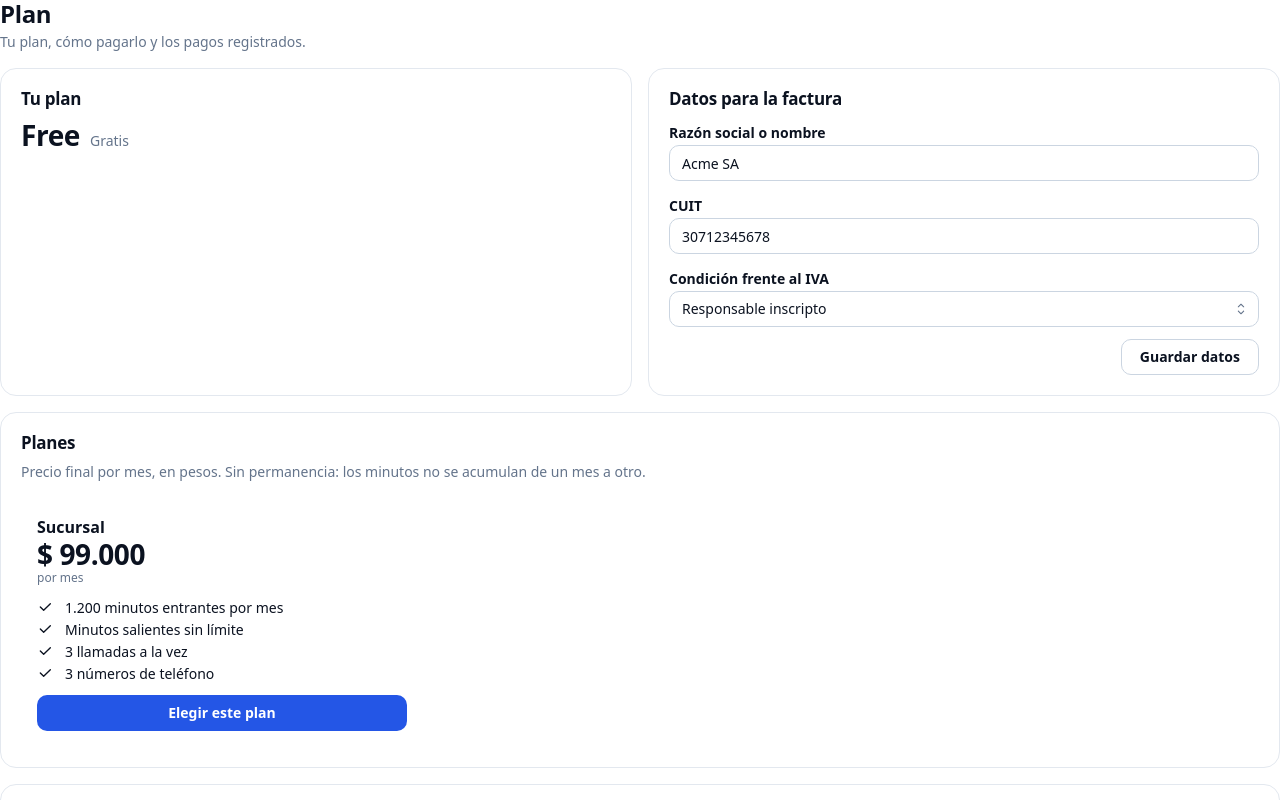
Test case: PlanPage › con Mercado Pago ofrece pagar con tarjeta o por transferencia
The image size is (1280, 800).
Click the button "Elegir este plan".
click(222, 713)  # box [37,695,407,731]
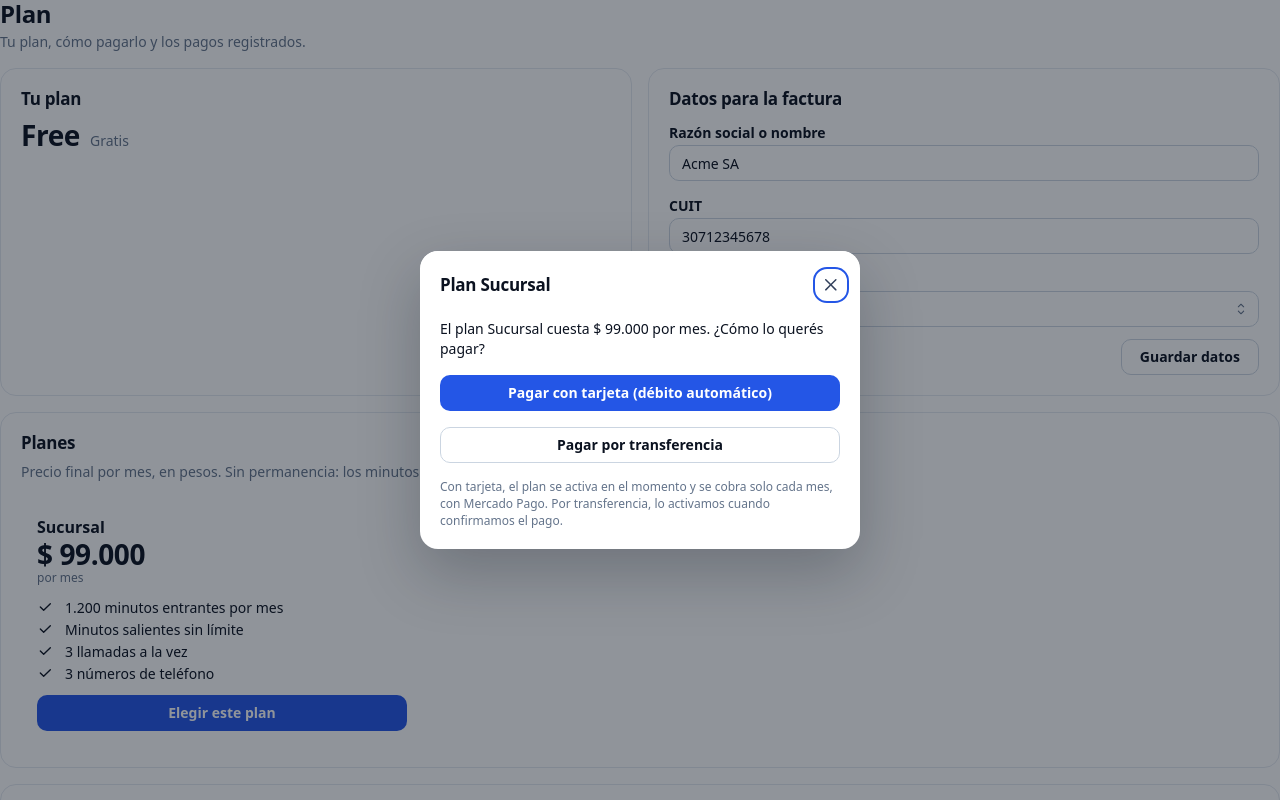
Now the button "Pagar con tarjeta (débito automático)" is shown, box [440,375,840,411]
Click the button "Pagar por transferencia".
click(640, 445)  # box [440,427,840,463]
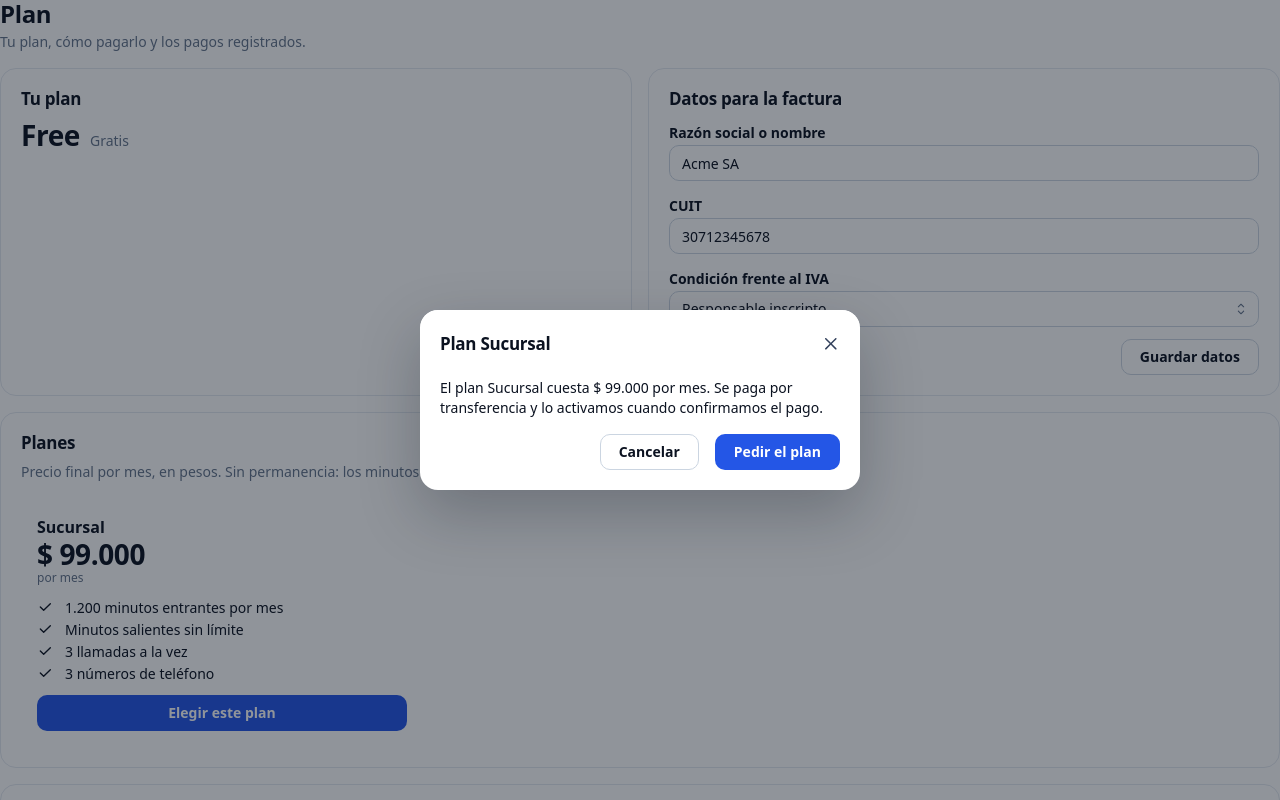
Now the button "Pedir el plan" is shown, box [715,434,840,470]
